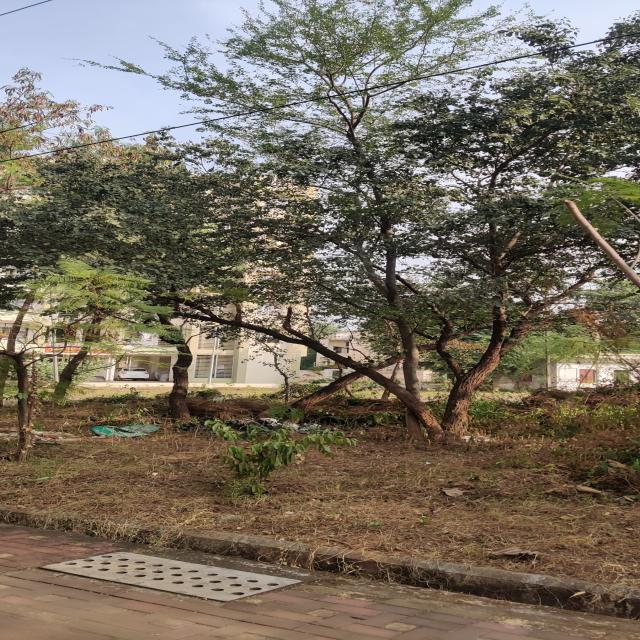Devakanchan tree: (107, 96, 553, 418)
